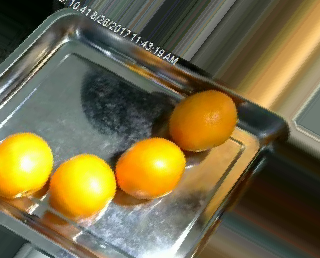Orange: (48, 152, 115, 219), (115, 137, 185, 199), (167, 89, 236, 151), (1, 132, 53, 199)
